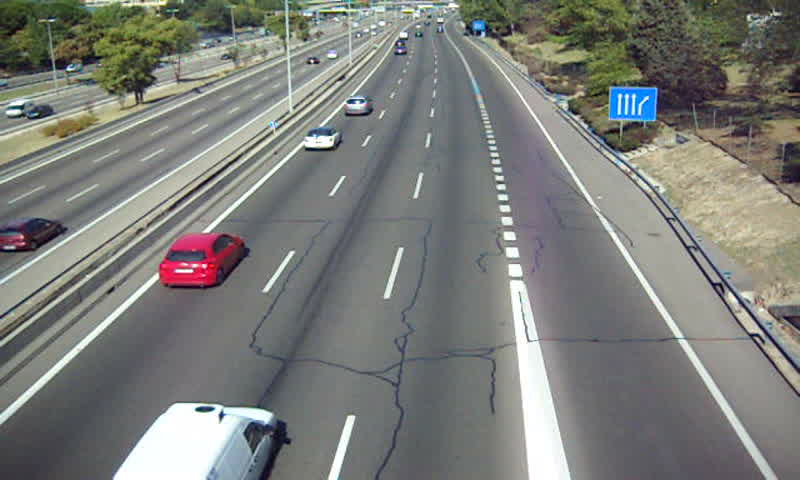car: (158, 233, 245, 287), (303, 128, 341, 151), (344, 94, 372, 115)
van: (114, 403, 275, 480)
